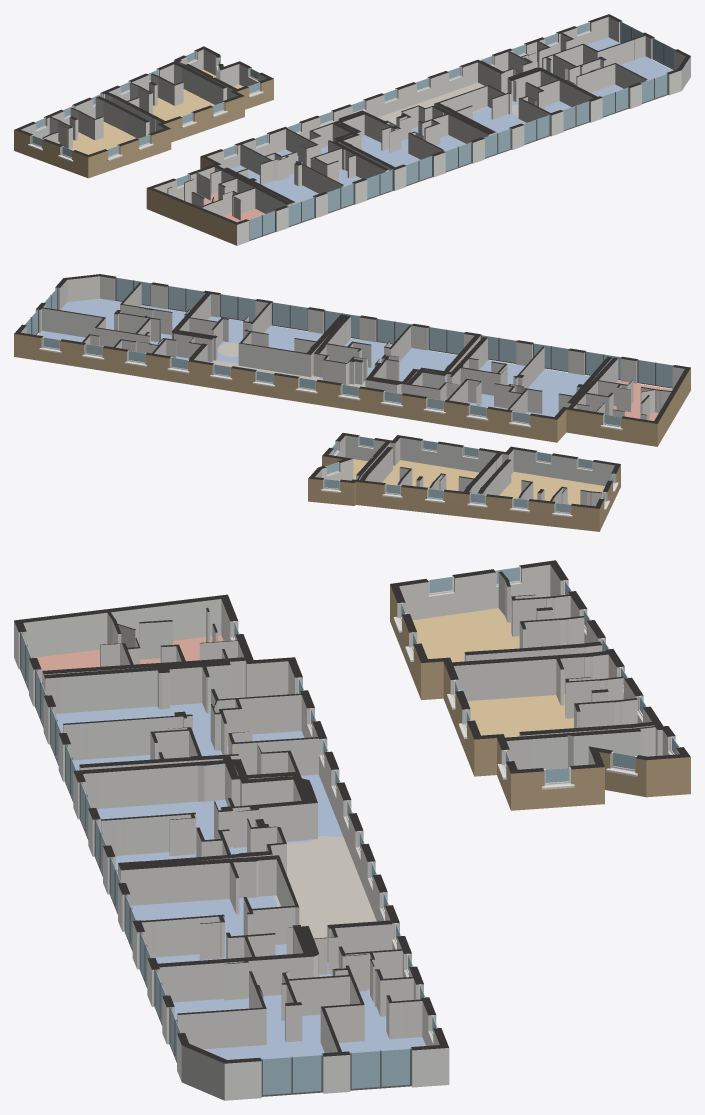
Rendered from cut-1.glb.
The picture shows the model from 3 angles, top to bottom: view 1: azimuth 30°, elevation 25°; view 2: azimuth 150°, elevation 25°; view 3: azimuth 270°, elevation 25°; orthographic projection. The views are drawn at different scales.
Parts seen in each view (by area): view 1: cut floor; view 2: cut floor; view 3: cut floor.
Part boxes in pixels (<box>): cut floor: <box>14,14,690,245</box>; cut floor: <box>14,274,690,531</box>; cut floor: <box>14,560,690,1100</box>.
Size of the model in its own units: 43.69 by 1.52 by 24.83.
